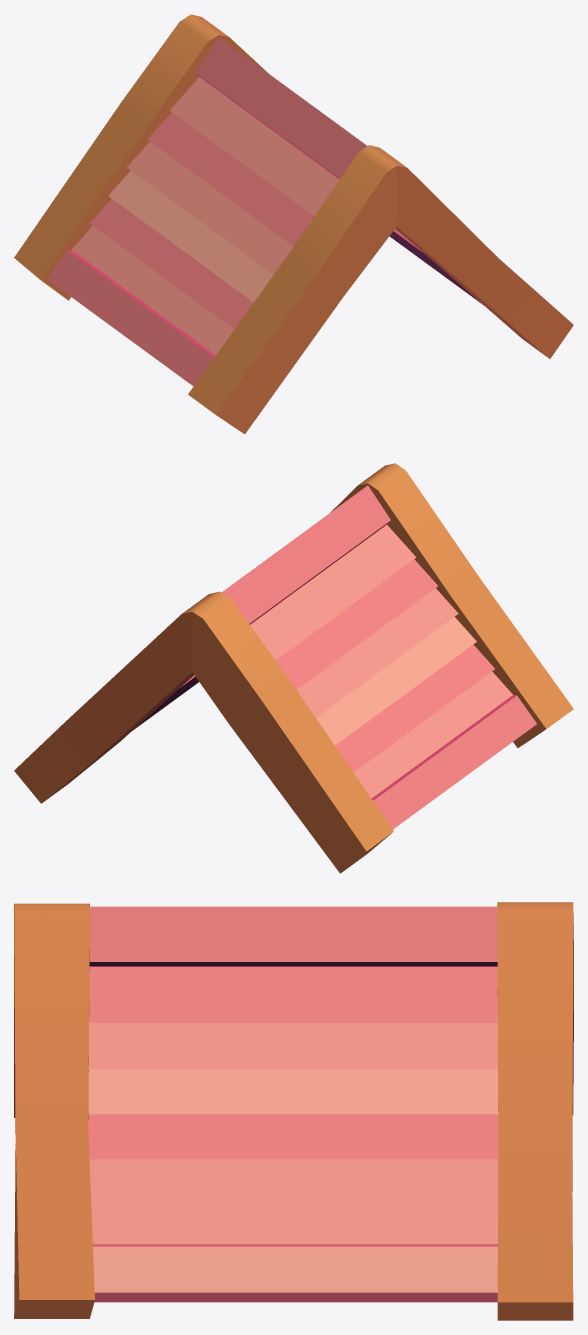
The model's file is Roof03_Pink_Wood.glb.
3 views of the same model, one above another, from view 1: azimuth 30°, elevation 25°; view 2: azimuth 150°, elevation 25°; view 3: azimuth 270°, elevation 25° (orthographic). The views are drawn at different scales.
Visible parts, largest first — view 1: Roof03_Pink_Wood; view 2: Roof03_Pink_Wood; view 3: Roof03_Pink_Wood.
Part boxes in pixels (<box>): Roof03_Pink_Wood: <box>14,14,573,434</box>; Roof03_Pink_Wood: <box>14,463,573,873</box>; Roof03_Pink_Wood: <box>14,902,573,1320</box>.
Bounding box in the file's own units: 2.41 × 1.48 × 2.38.
Materials: 1 (1 with a texture image).
